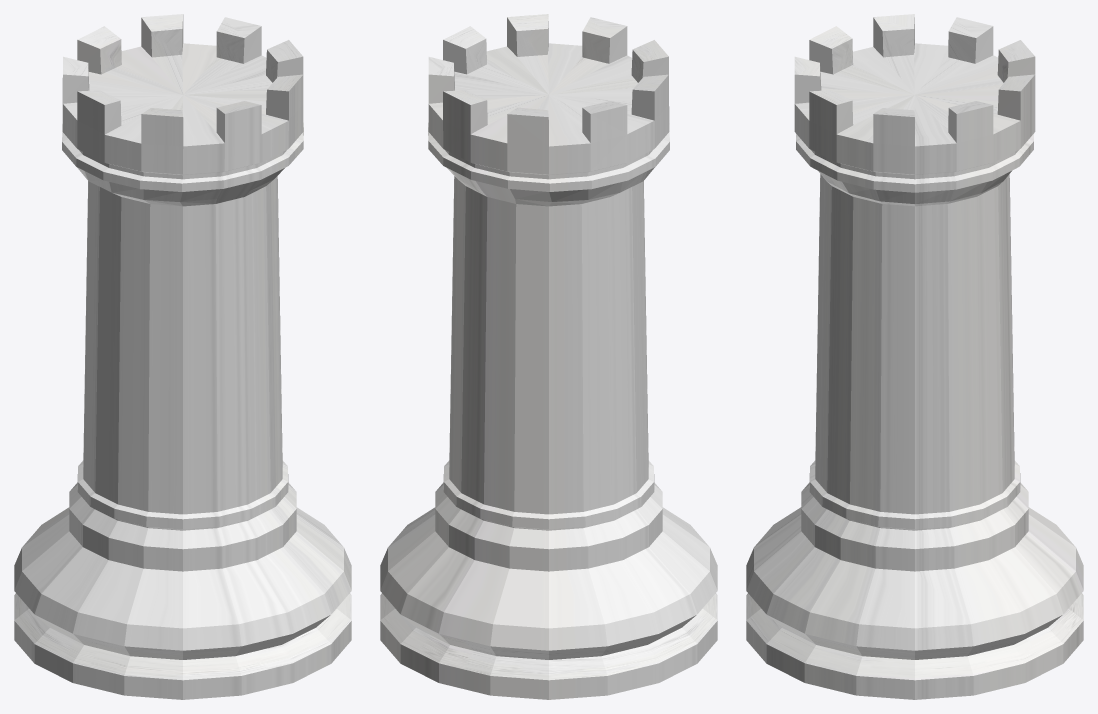
File: w_rook_1.obj
The picture shows the model from 3 angles, left to right: view 1: azimuth 30°, elevation 25°; view 2: azimuth 150°, elevation 25°; view 3: azimuth 270°, elevation 25°; orthographic projection.
Bounding box in the file's own units: 0.1443 × 0.2673 × 0.1422.
Materials: 1 (1 with a texture image).
